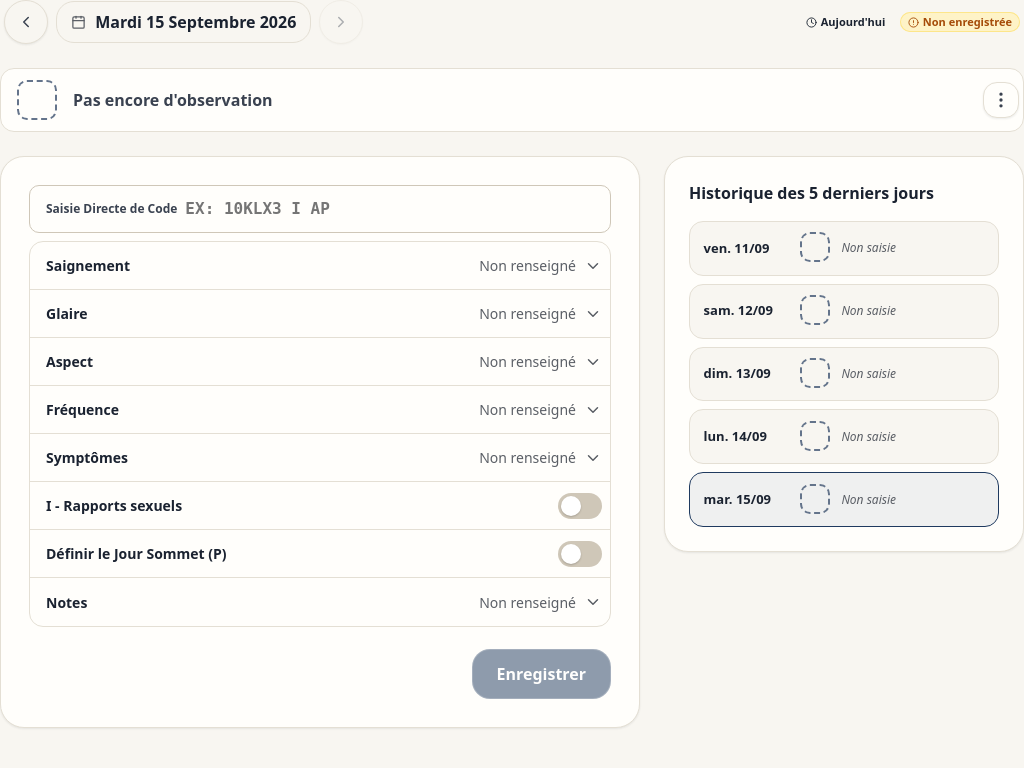
Test: French text of the components › translates the observation actions menu
This screenshot has width=1024, height=768.
Click the button named "Actions de l'observation": (1001, 100) 983,82 -> 1019,118
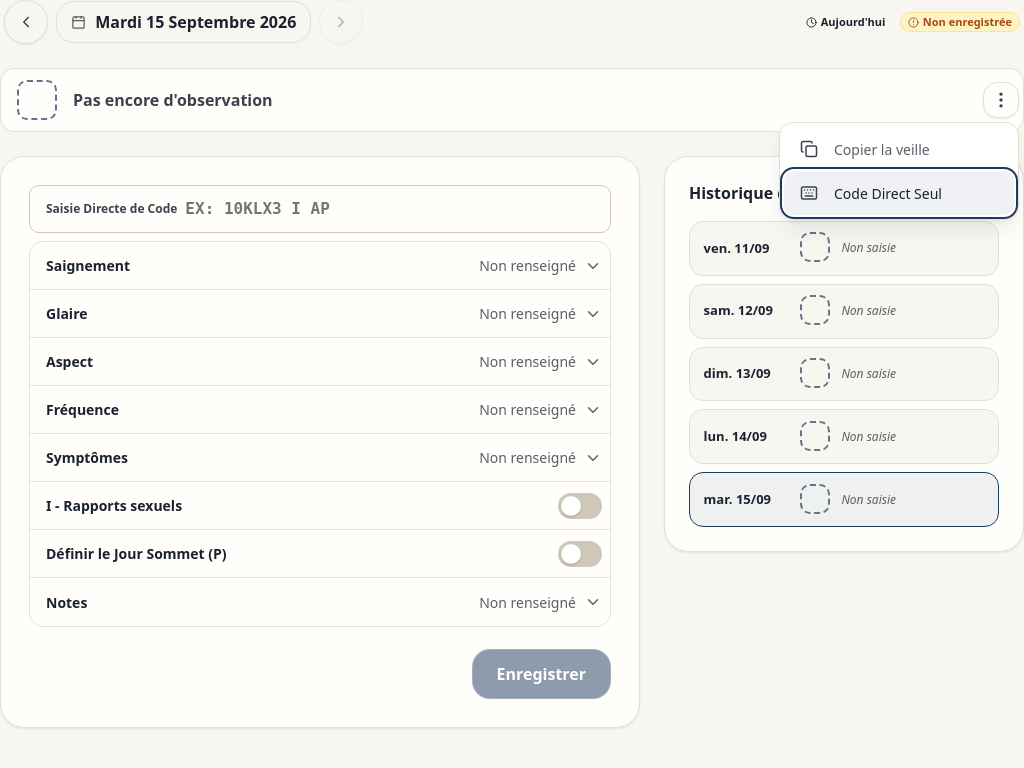
Expected: the menu item "Copier la veille" is disabled, 784,127 -> 1014,171
